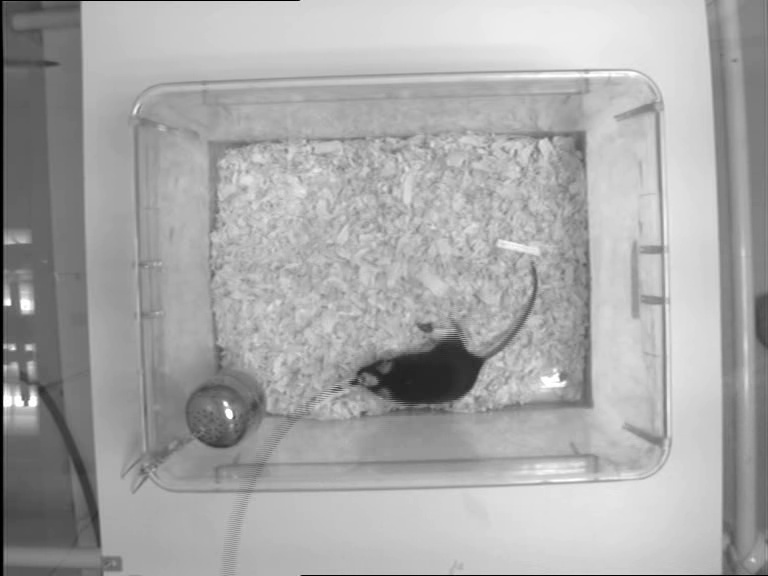mice: (355, 258, 539, 406)
